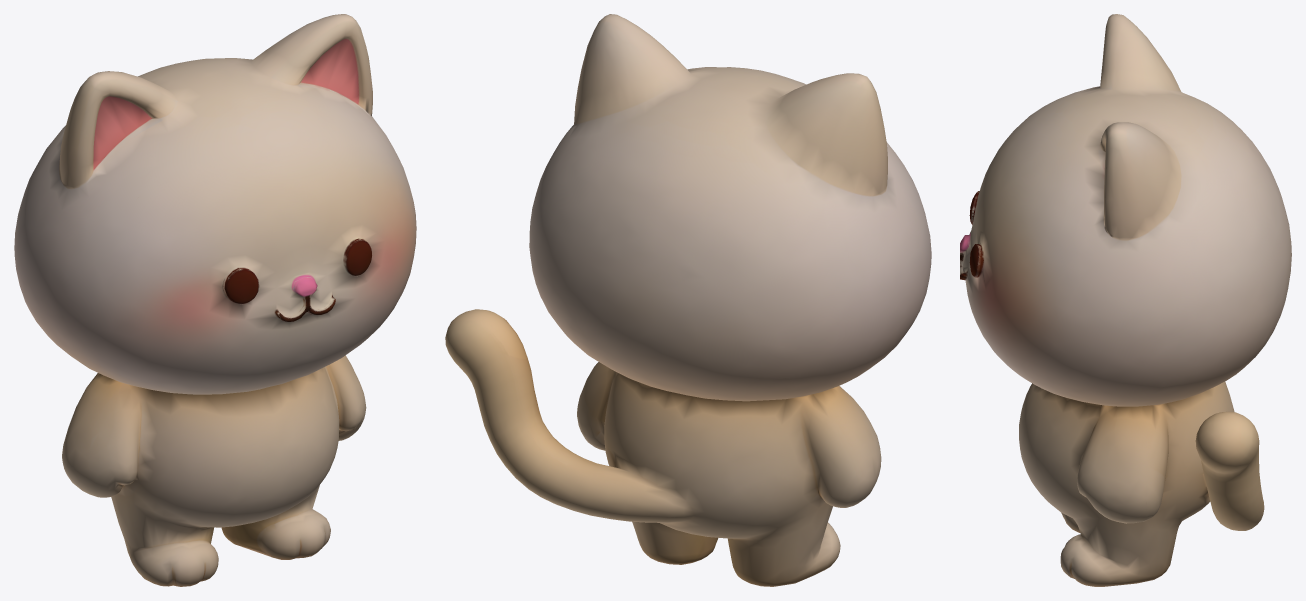
Rendered from pet-base.glb.
3 renders of one model, left to right at view 1: azimuth 30°, elevation 25°; view 2: azimuth 150°, elevation 25°; view 3: azimuth 270°, elevation 25°, orthographic. The views are drawn at different scales.
Visible parts, largest first — view 1: material; view 2: material; view 3: material.
Boxes of the visible parts, <box> form: material: <box>14,14,416,586</box>; material: <box>445,14,931,586</box>; material: <box>960,14,1291,586</box>.
Bounding box in the file's own units: 1.58 × 1.9 × 1.2.
Materials: 1 (1 with a texture image).
